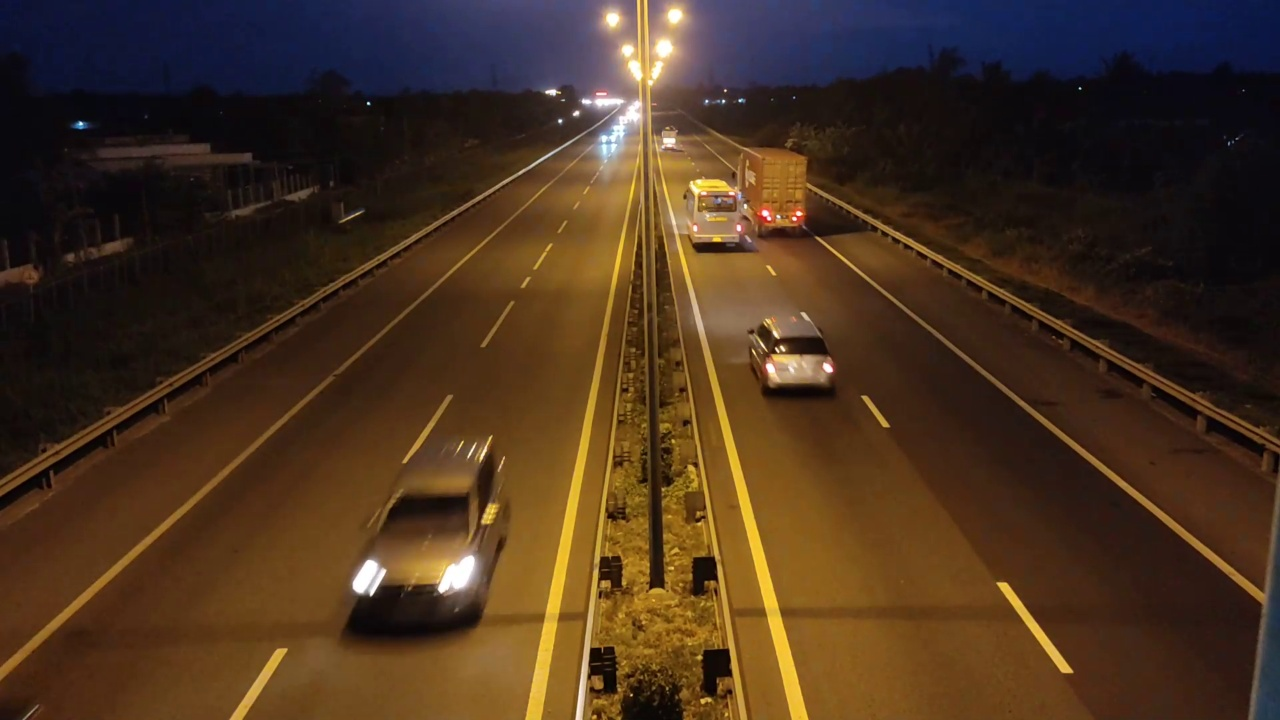bus: (683, 177, 757, 252)
car: (344, 433, 510, 633), (747, 311, 837, 394)
truck: (735, 145, 807, 239)
